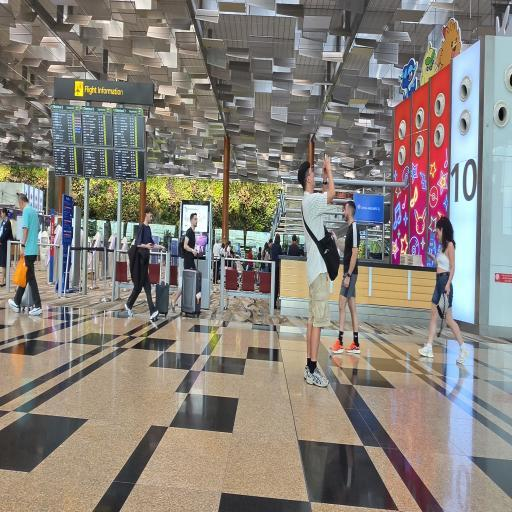person_left: (416, 207, 475, 375), (338, 190, 362, 361), (0, 198, 14, 288)
person_right: (292, 150, 335, 394)
person_with_luggage_left: (10, 182, 44, 319)
person_with_luggage_right: (128, 200, 168, 324), (174, 201, 204, 323)
